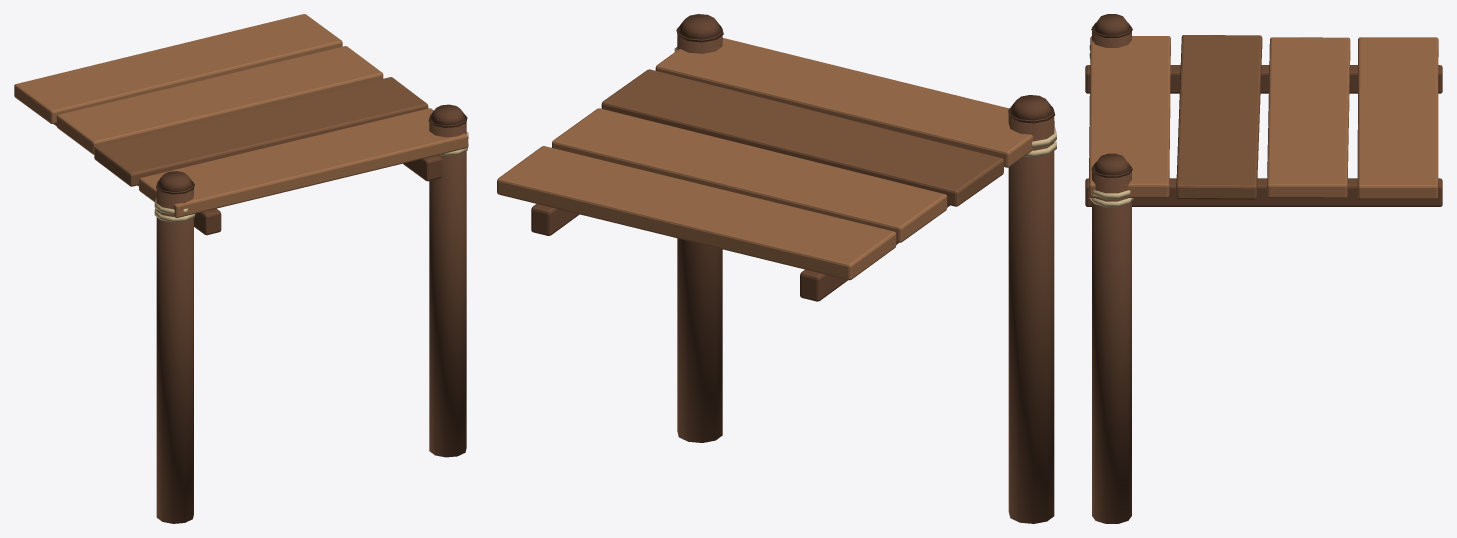
Rendered from DockSection.fbx.
3 renders of one model, left to right at view 1: azimuth 30°, elevation 25°; view 2: azimuth 150°, elevation 25°; view 3: azimuth 270°, elevation 25°, orthographic. The views are drawn at different scales.
Parts seen in each view (by area): view 1: Plank, Post, PlankDark, Stringer, Rope; view 2: Plank, Post, PlankDark, Stringer; view 3: Plank, Post, PlankDark, Stringer, Rope.
Part boxes in pixels (x1,y1,x2,y2): Plank: (14,14,467,217); Post: (156,104,467,523); PlankDark: (94,77,428,186); Stringer: (54,123,442,235); Rope: (154,132,468,222); Plank: (497,38,1054,280); Post: (676,14,1054,523); PlankDark: (601,69,1003,206); Stringer: (531,204,949,301); Plank: (1089,36,1438,199); Post: (1091,14,1132,523); PlankDark: (1176,35,1262,199); Stringer: (1085,65,1442,206); Rope: (1089,45,1134,207).
Bounding box in the file's own units: 835 × 881 × 800.
